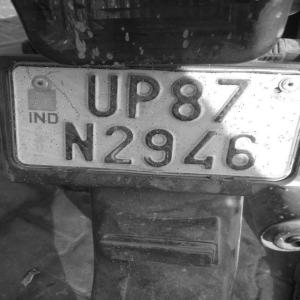Plate: (11, 64, 300, 185)
